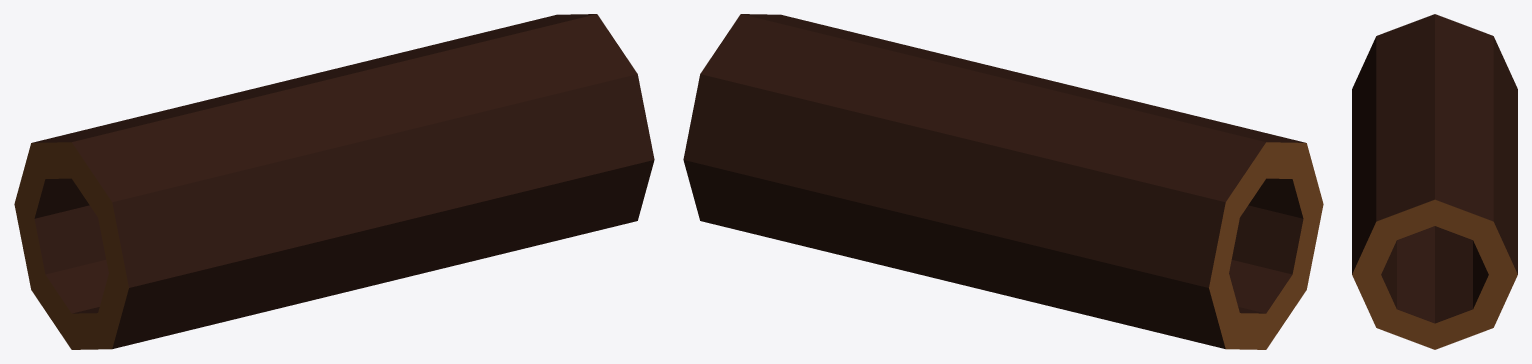
File: Log_Hollow_03.fbx
3 views of the same model, side by side, from view 1: azimuth 30°, elevation 25°; view 2: azimuth 150°, elevation 25°; view 3: azimuth 270°, elevation 25° (orthographic). The views are drawn at different scales.
Visible parts, largest first — view 1: Log_Hollow_03_Mesh; view 2: Log_Hollow_03_Mesh; view 3: Log_Hollow_03_Mesh.
Part boxes in pixels (x1,y1,x2,y2): Log_Hollow_03_Mesh: [14, 14, 654, 349]; Log_Hollow_03_Mesh: [683, 14, 1323, 349]; Log_Hollow_03_Mesh: [1352, 14, 1517, 349].
Size of the model in its own units: 1.8 by 0.68 by 0.68.
Materials: 1 (1 with a texture image).
